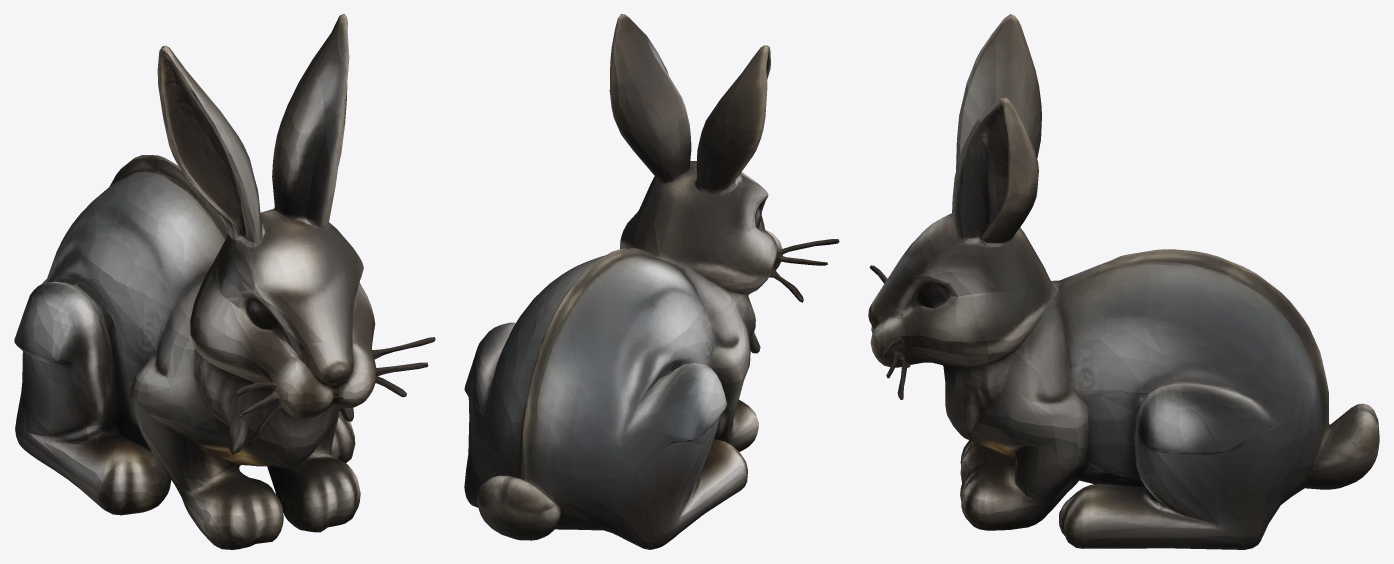
The model's file is rabbit.glb.
3 renders of one model, left to right at view 1: azimuth 30°, elevation 25°; view 2: azimuth 150°, elevation 25°; view 3: azimuth 270°, elevation 25°, orthographic. The views are drawn at different scales.
Parts seen in each view (by area): view 1: world; view 2: world; view 3: world.
Part boxes in pixels (x1,y1,x2,y2): world: (14,14,435,549); world: (464,14,839,549); world: (868,14,1379,549).
Bounding box in the file's own units: 0.5544 × 0.9629 × 0.9986.
1 material, 1 textured.
